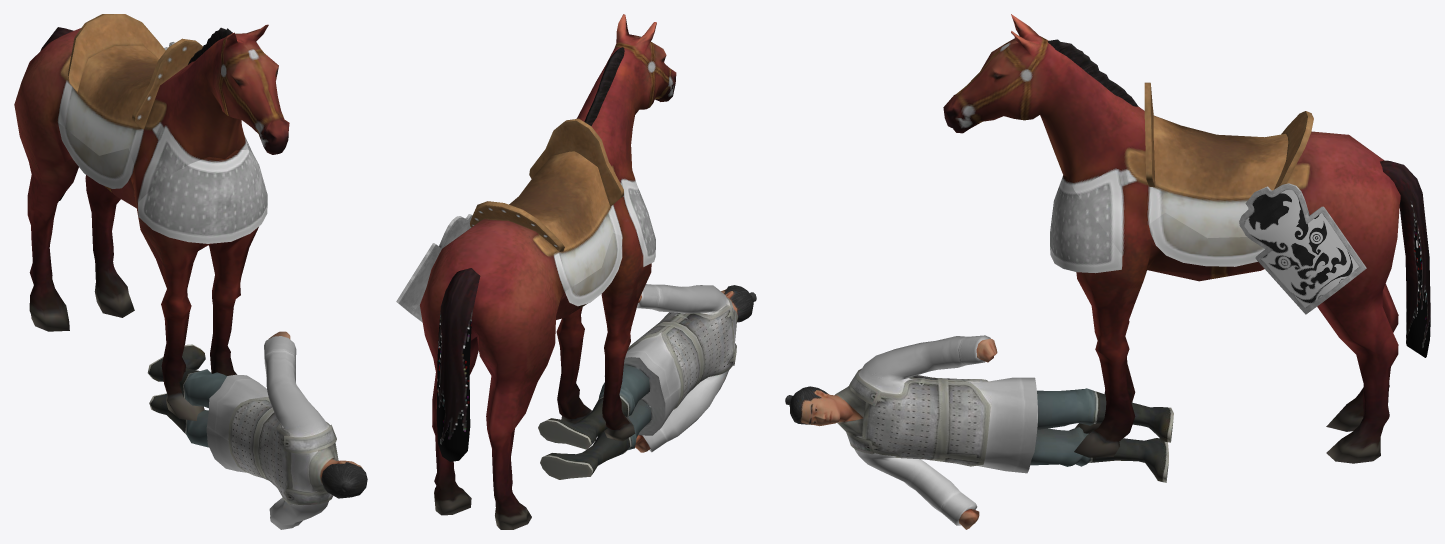
File: 38-tigercavalry.glb
The picture shows the model from 3 angles, left to right: view 1: azimuth 30°, elevation 25°; view 2: azimuth 150°, elevation 25°; view 3: azimuth 270°, elevation 25°; orthographic projection. The views are drawn at different scales.
Size of the model in its own units: 0.9766 by 2.97 by 3.51.
Materials: 3 (3 with a texture image).
